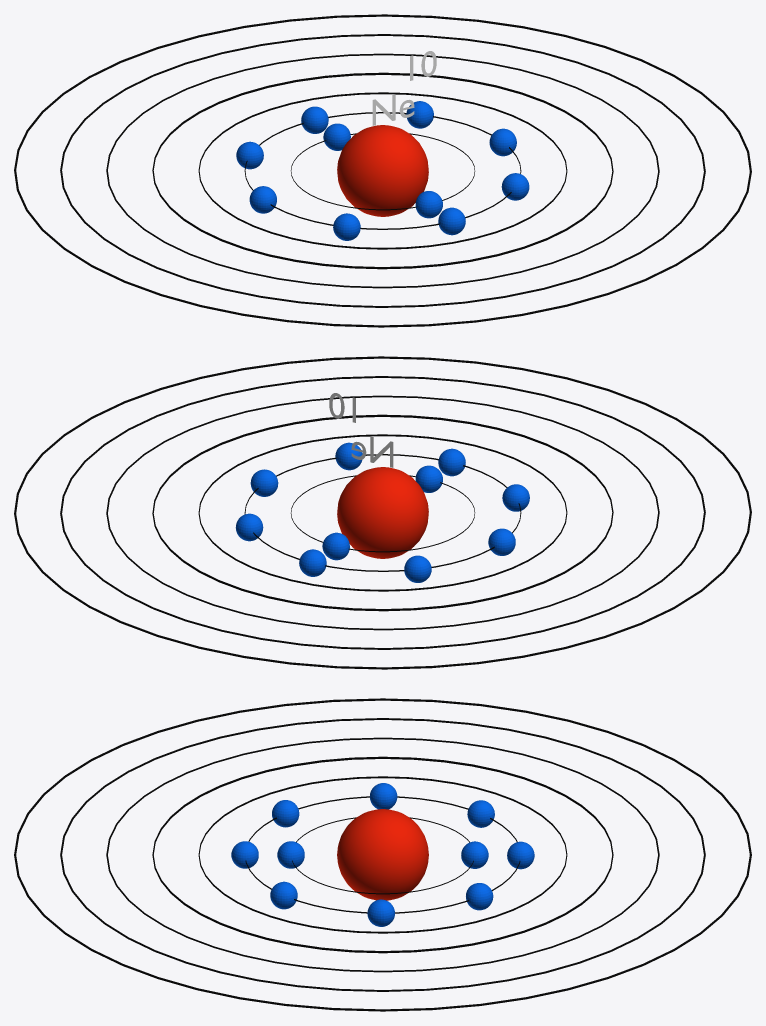
The picture shows the model from 3 angles, top to bottom: view 1: azimuth 30°, elevation 25°; view 2: azimuth 150°, elevation 25°; view 3: azimuth 270°, elevation 25°; orthographic projection.
Parts seen in each view (by area): view 1: Proton, Ne2, n7, n6, n5, n4, n3, Ne1, n2; view 2: Proton, Ne2, n7, n6, n5, n4, n3, Ne1, n2; view 3: Proton, Ne2, n7, n6, n5, n4, n3, Ne1, n2, n1.
Part boxes in pixels (bbox=[...]): Proton: bbox=[337, 125, 428, 216]; Ne2: bbox=[236, 101, 529, 240]; n7: bbox=[14, 14, 751, 327]; n6: bbox=[60, 34, 705, 307]; n5: bbox=[106, 53, 659, 288]; n4: bbox=[152, 72, 613, 269]; n3: bbox=[198, 92, 567, 249]; Ne1: bbox=[323, 123, 442, 218]; n2: bbox=[244, 112, 521, 229]; Proton: bbox=[337, 467, 428, 558]; Ne2: bbox=[235, 442, 529, 582]; n7: bbox=[14, 356, 751, 669]; n6: bbox=[60, 376, 705, 649]; n5: bbox=[106, 395, 659, 630]; n4: bbox=[152, 414, 613, 611]; n3: bbox=[198, 434, 567, 591]; Ne1: bbox=[322, 465, 442, 560]; n2: bbox=[244, 454, 521, 571]; Proton: bbox=[337, 809, 428, 900]; Ne2: bbox=[231, 783, 534, 926]; n7: bbox=[14, 698, 751, 1011]; n6: bbox=[60, 718, 705, 991]; n5: bbox=[106, 737, 659, 972]; n4: bbox=[152, 756, 613, 953]; n3: bbox=[198, 776, 567, 933]; Ne1: bbox=[277, 841, 488, 868]; n2: bbox=[245, 796, 520, 913]; n1: bbox=[292, 817, 473, 894].
Bounding box in the file's own units: 802 × 180 × 802.
